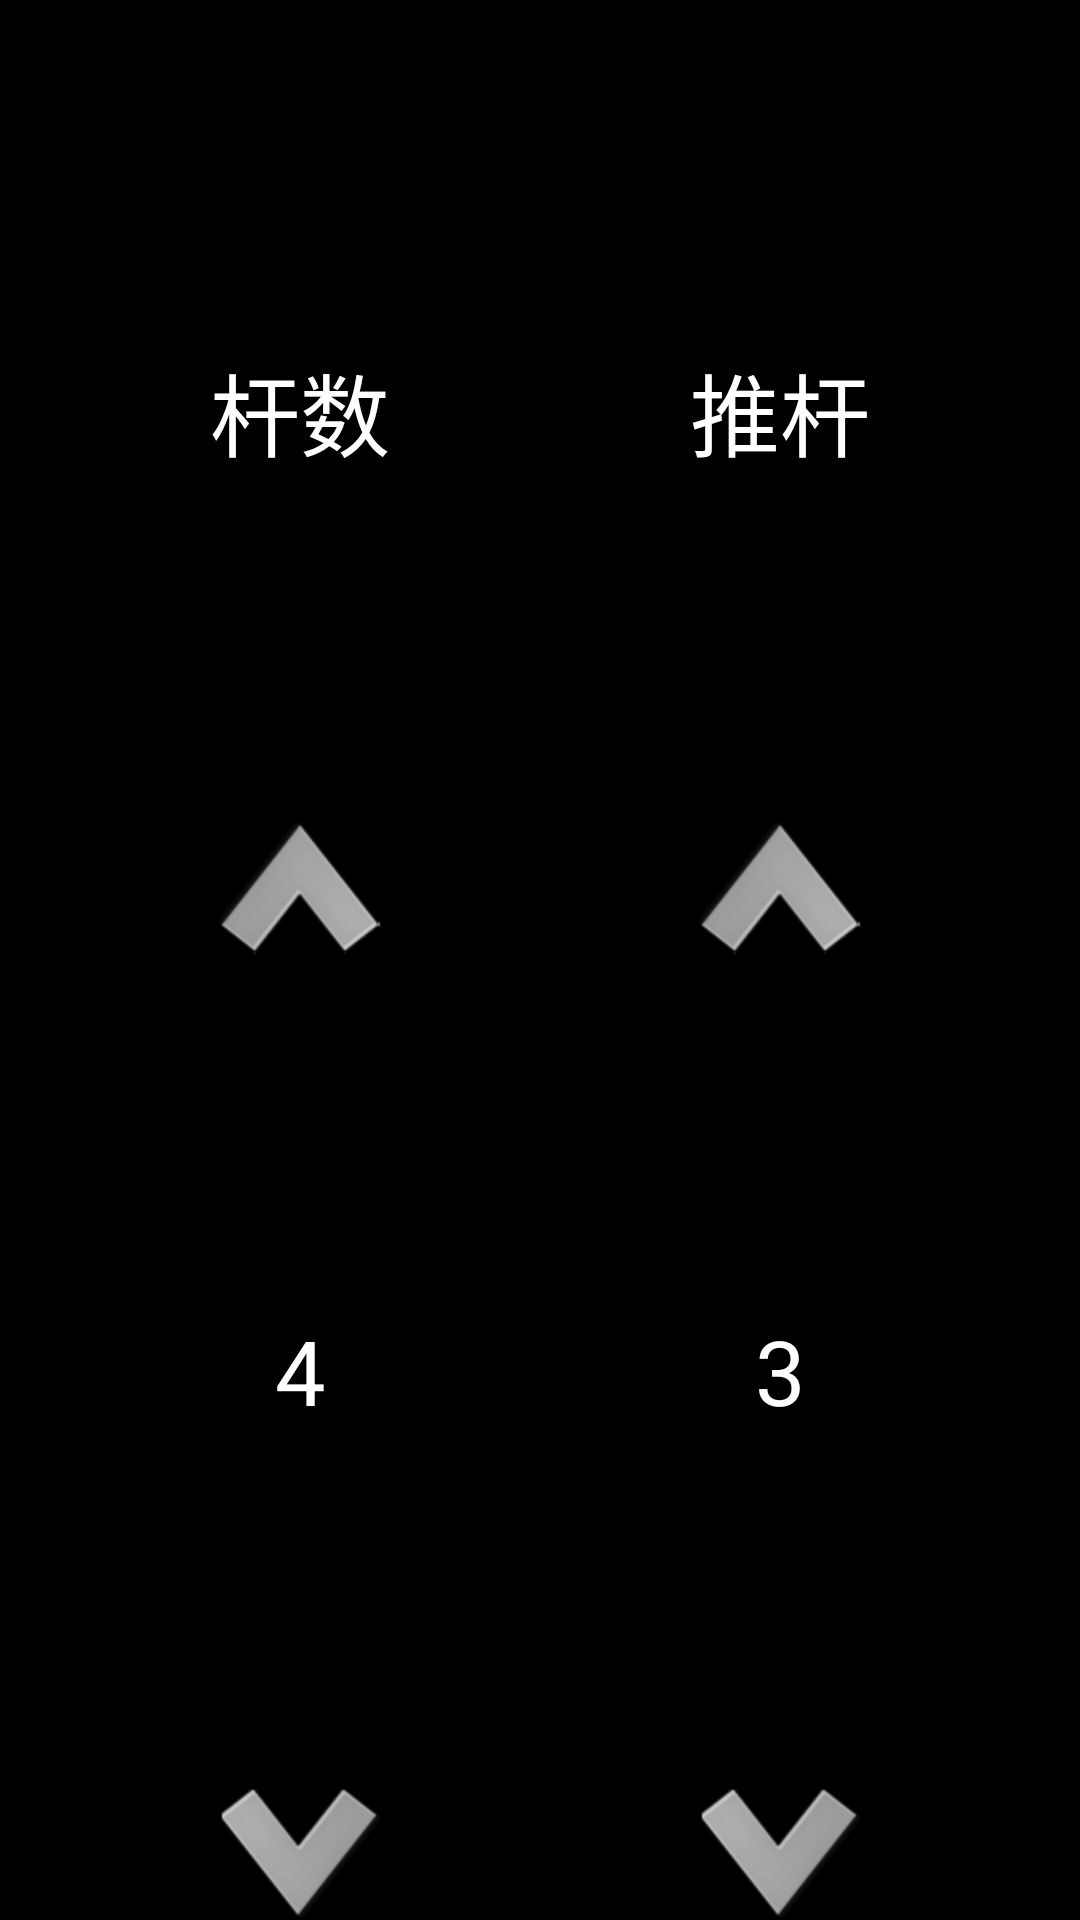

Icon click points for this 1080×1920 phone screenshot, format (x=x, y=y):
shang: (x=301, y=888), (x=781, y=888)
xia: (x=299, y=1852), (x=779, y=1852)
